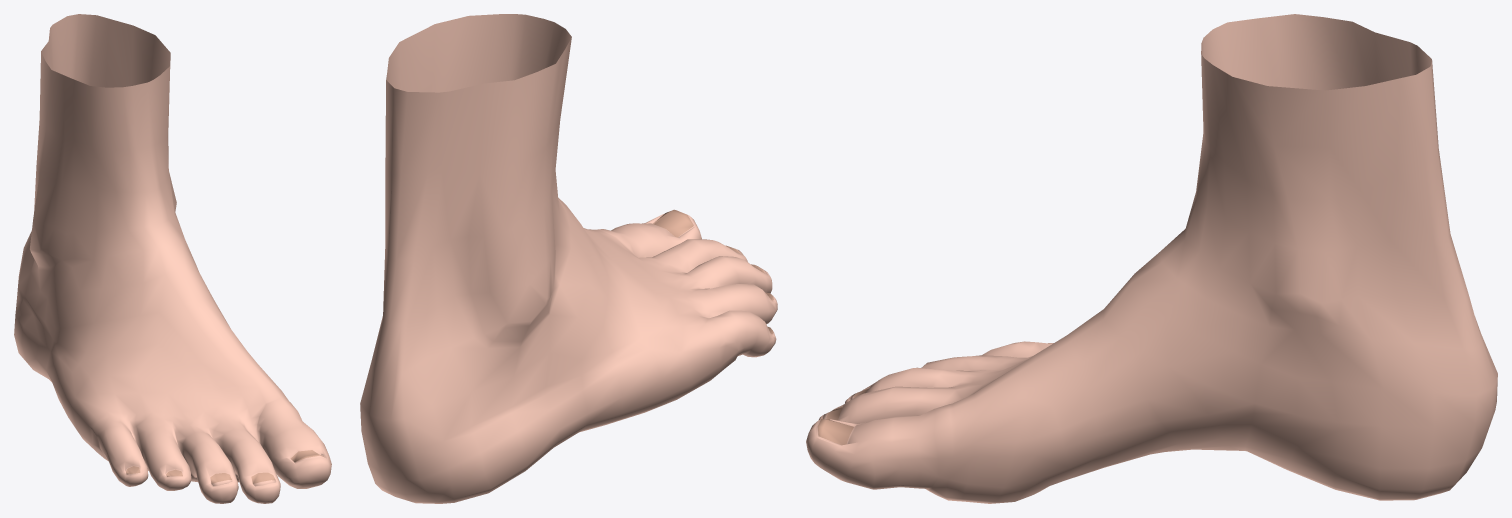
Rendered from footOBJ2.fbx.
3 views of the same model, side by side, from view 1: azimuth 30°, elevation 25°; view 2: azimuth 150°, elevation 25°; view 3: azimuth 270°, elevation 25° (orthographic). The views are drawn at different scales.
Visible parts, largest first — view 1: foot; view 2: foot; view 3: foot.
Boxes of the visible parts, left/top/right/bottom form: foot: left=14, top=14, right=331, bottom=503; foot: left=360, top=14, right=777, bottom=503; foot: left=806, top=14, right=1497, bottom=503.
Size of the model in its own units: 109 by 193 by 278.
